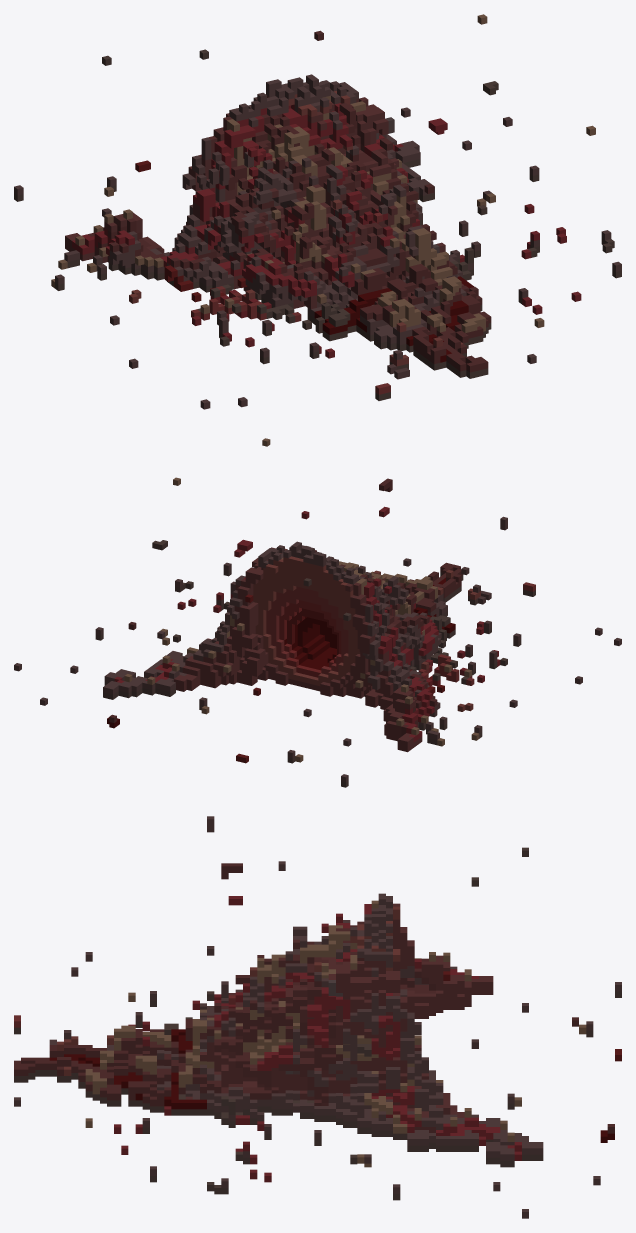
File: portal_.obj
3 renders of one model, top to bottom at view 1: azimuth 30°, elevation 25°; view 2: azimuth 150°, elevation 25°; view 3: azimuth 270°, elevation 25°, orthographic. The views are drawn at different scales.
Bounding box in the file's own units: 88 × 31 × 85.
Materials: 1 (1 with a texture image).
